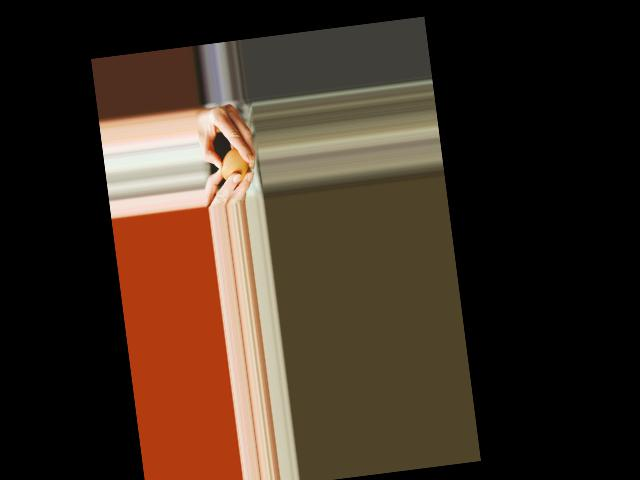egg: (218, 147, 251, 185)
